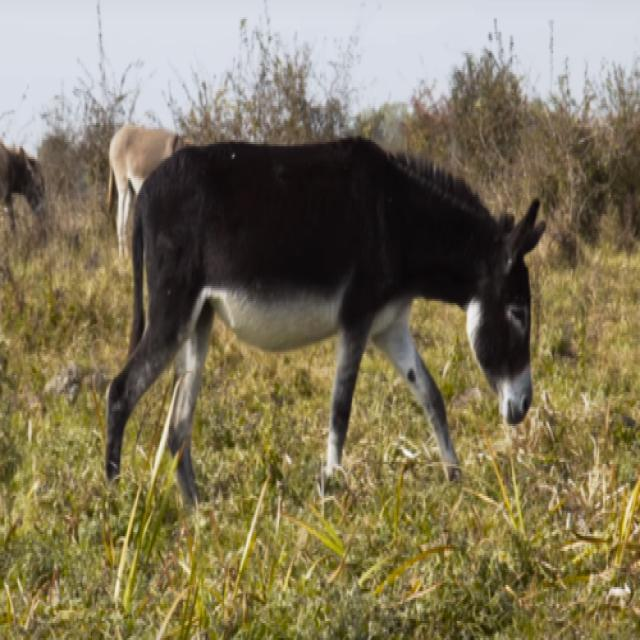Donkey: (107, 134, 548, 508), (106, 123, 202, 263), (2, 142, 48, 238)
